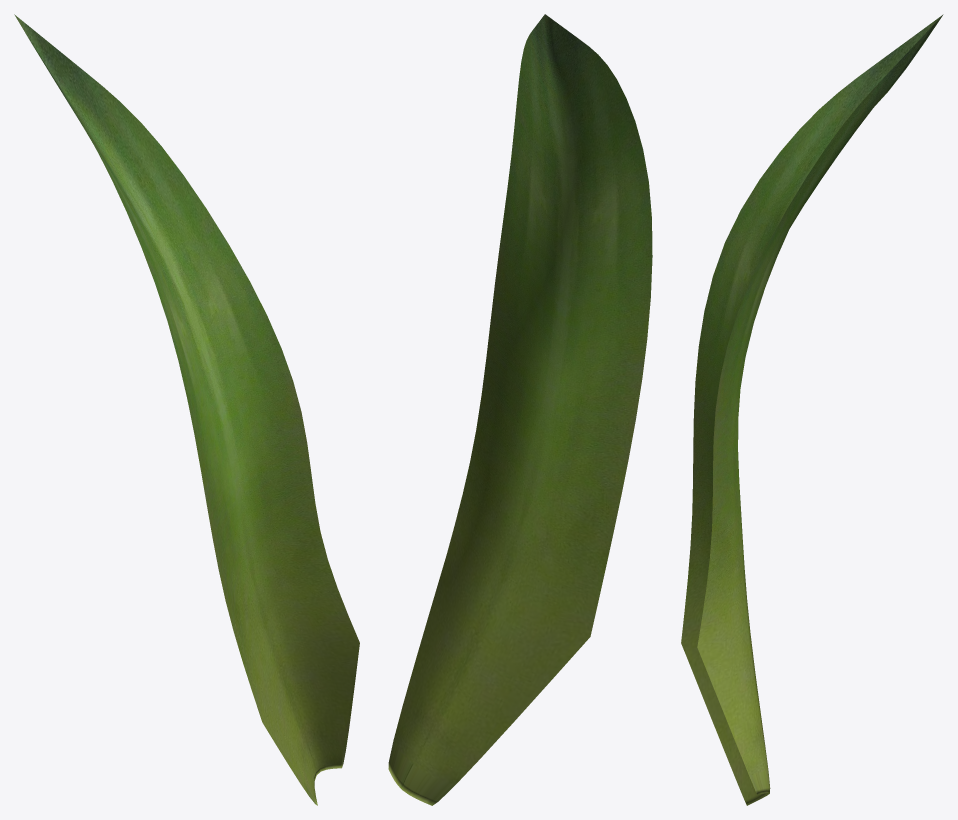
3 views of the same model, side by side, from view 1: azimuth 30°, elevation 25°; view 2: azimuth 150°, elevation 25°; view 3: azimuth 270°, elevation 25° (orthographic). The views are drawn at different scales.
Visible parts, largest first — view 1: indoor plant_02.005; view 2: indoor plant_02.005; view 3: indoor plant_02.005.
Boxes of the visible parts, <box> form: indoor plant_02.005: <box>14,14,359,805</box>; indoor plant_02.005: <box>388,14,652,805</box>; indoor plant_02.005: <box>681,14,943,805</box>.
Bounding box in the file's own units: 0.4148 × 1.33 × 0.4499.
1 material, 1 textured.
